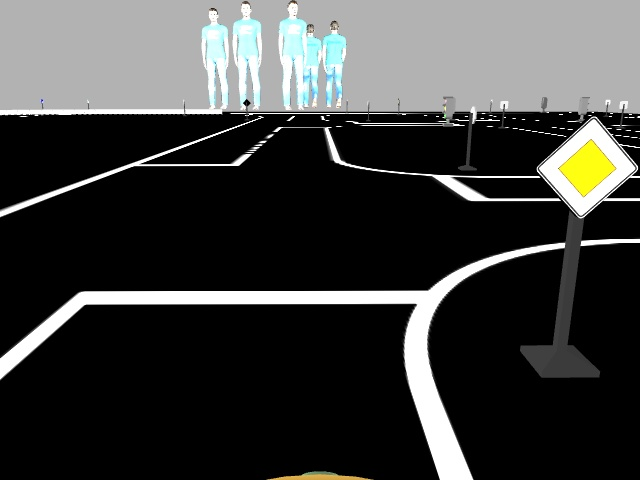Priority: (537, 116, 636, 219)
